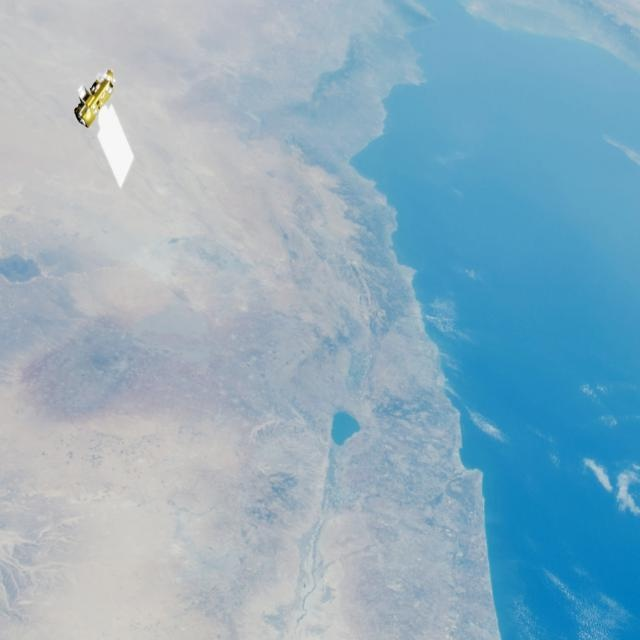satellite: (59, 59, 145, 192)
